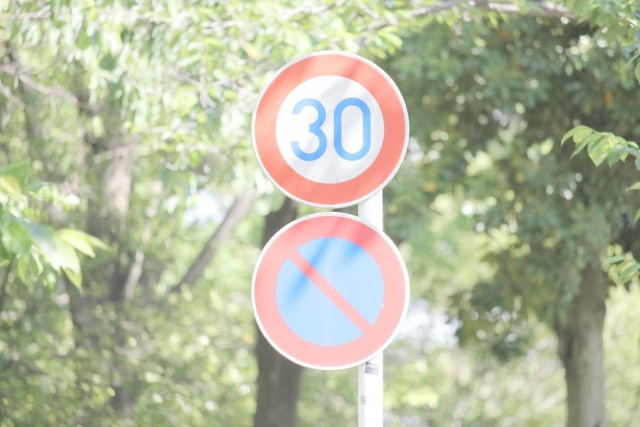Prohibition_sign: (245, 211, 425, 392)
